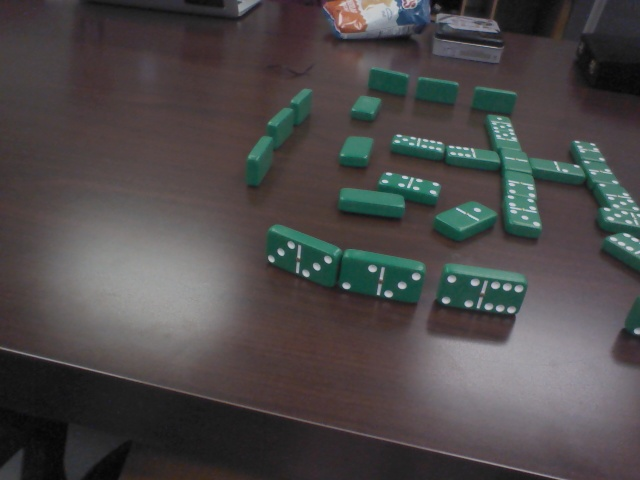A: (335, 181, 414, 221), (340, 87, 388, 128), (332, 131, 379, 171)
B: (428, 193, 498, 246), (494, 191, 548, 237), (373, 167, 441, 202), (441, 137, 502, 174), (391, 132, 448, 165), (529, 152, 582, 183), (600, 226, 640, 265), (590, 179, 638, 209), (500, 169, 543, 201), (594, 200, 640, 226), (499, 144, 535, 177), (577, 156, 619, 184), (568, 134, 606, 164), (484, 110, 520, 133), (487, 128, 524, 150)
C: (242, 136, 275, 190), (261, 105, 303, 146), (285, 79, 316, 127)
E: (335, 246, 429, 312), (435, 260, 528, 323), (260, 223, 339, 292)
F: (360, 63, 414, 103), (467, 84, 521, 116), (414, 74, 459, 107)
